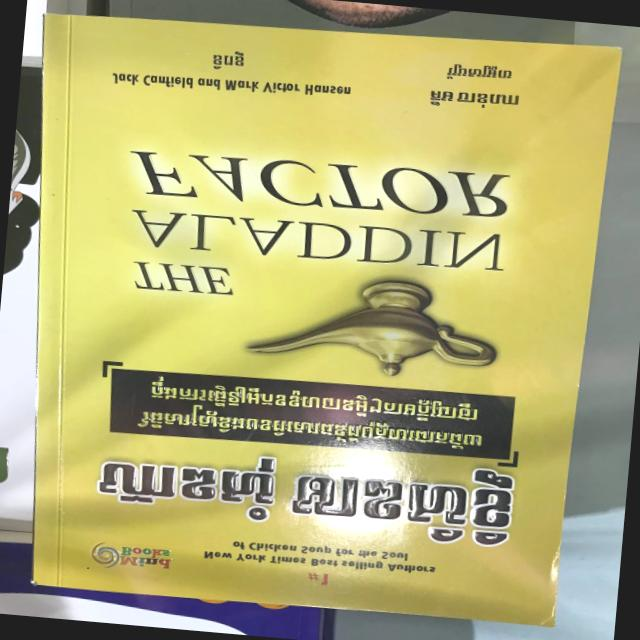1: (82, 447, 522, 558), (425, 85, 525, 112)
Yolov11_80vkh: (126, 401, 486, 454), (143, 374, 481, 422), (442, 60, 517, 86), (209, 48, 253, 73)
